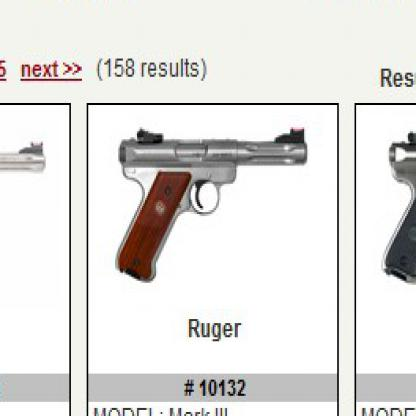gun: (105, 113, 320, 297), (0, 131, 59, 273)
